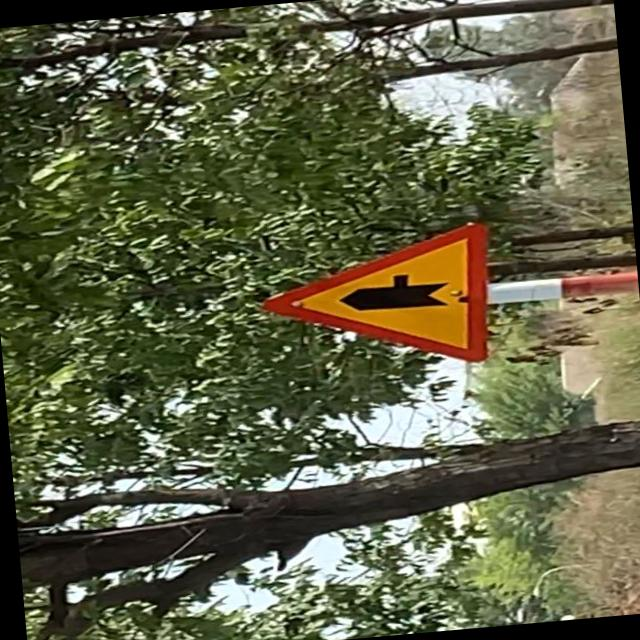W-207b: (252, 219, 503, 381)
